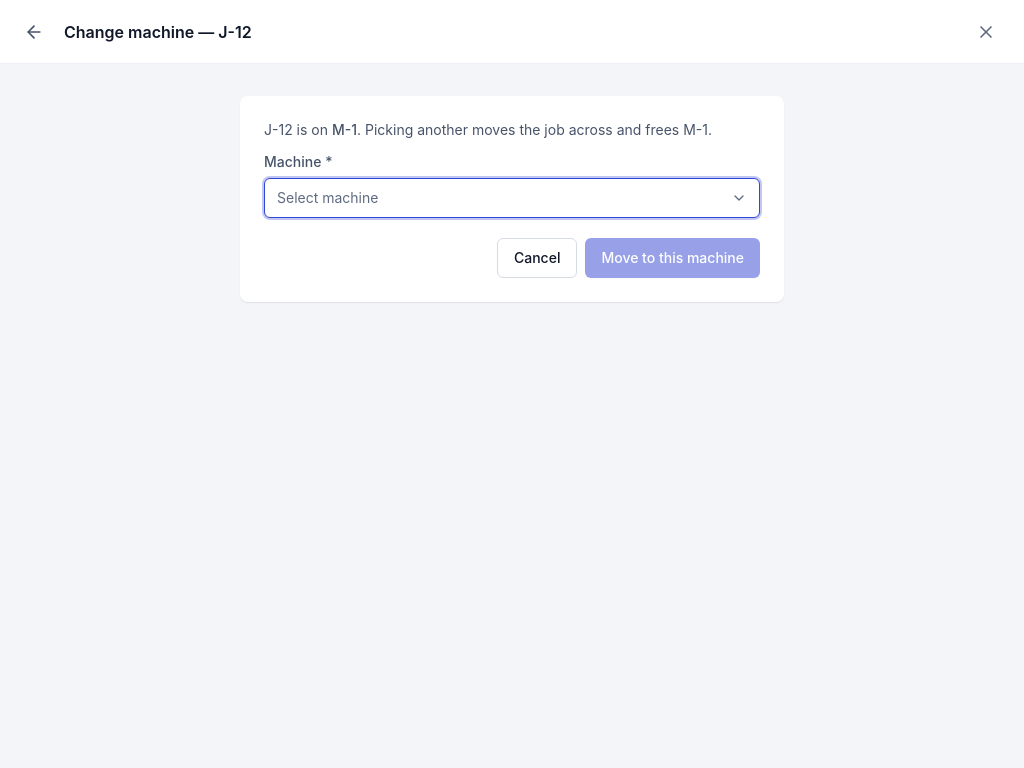
it: loading › re-planning the job's own machine keeps whether it is loading
Step 1. Click the button "Select machine" → (328, 198), box left=264, top=178, right=760, bottom=218
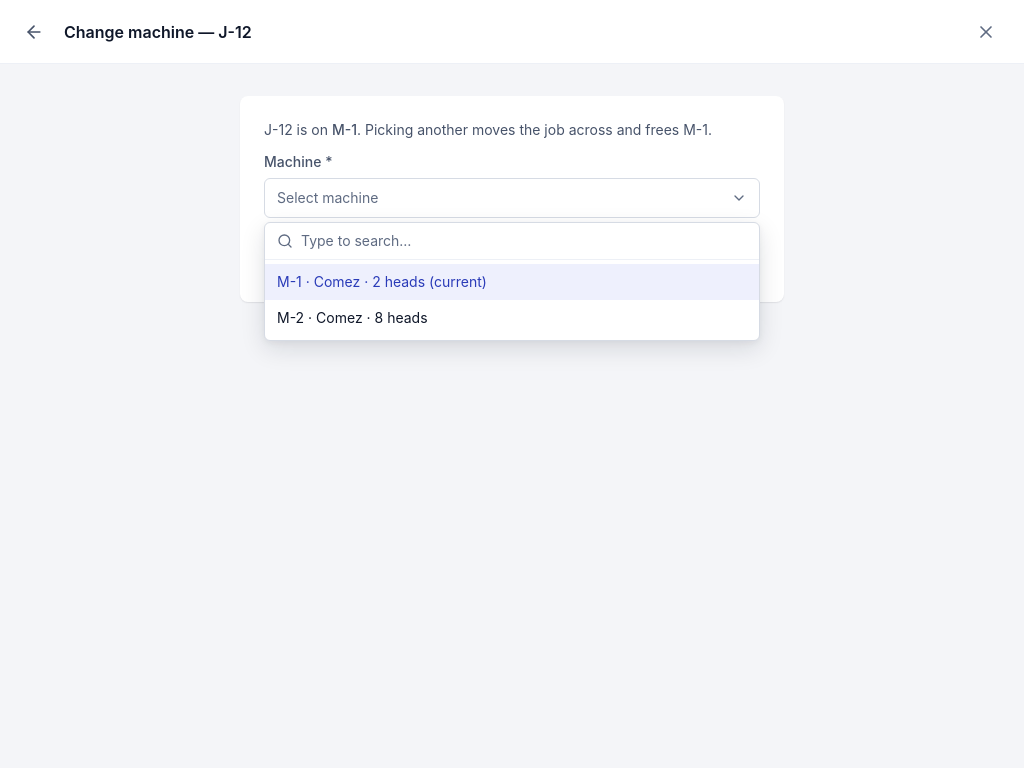
Step 2. Click the option "M-1 · Comez · 2 heads (current)" → (382, 282), box left=265, top=264, right=759, bottom=300
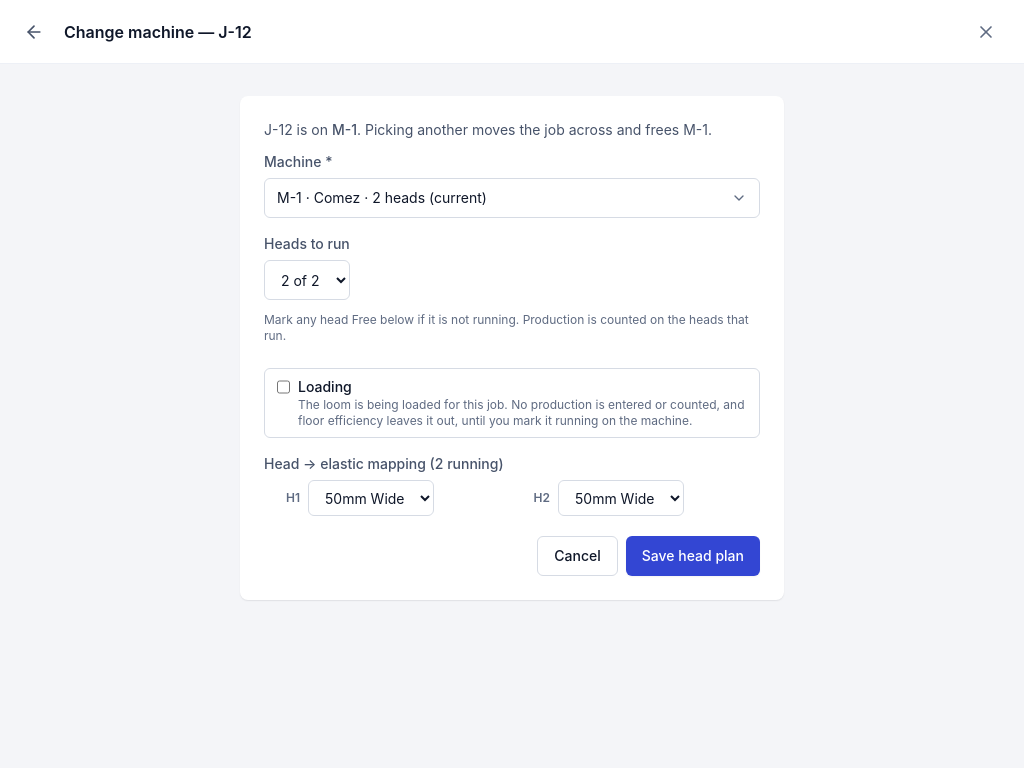
Check: the checkbox labelled "Loading" is not checked, box left=277, top=379, right=290, bottom=395
